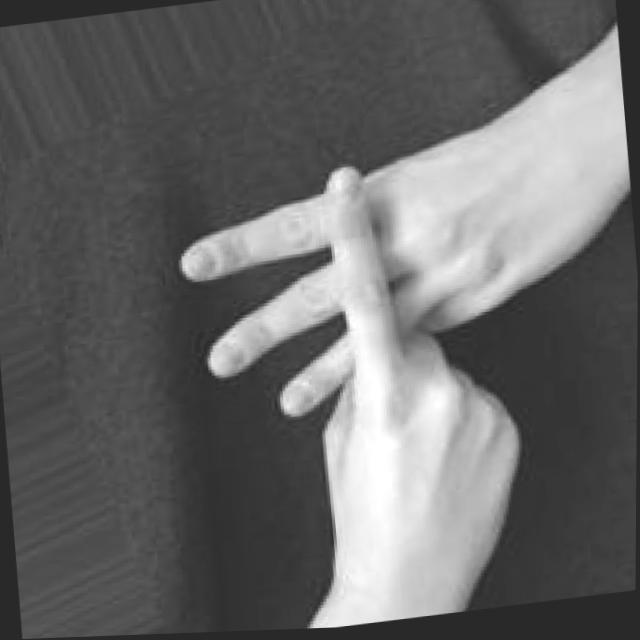E: (166, 119, 629, 608)
